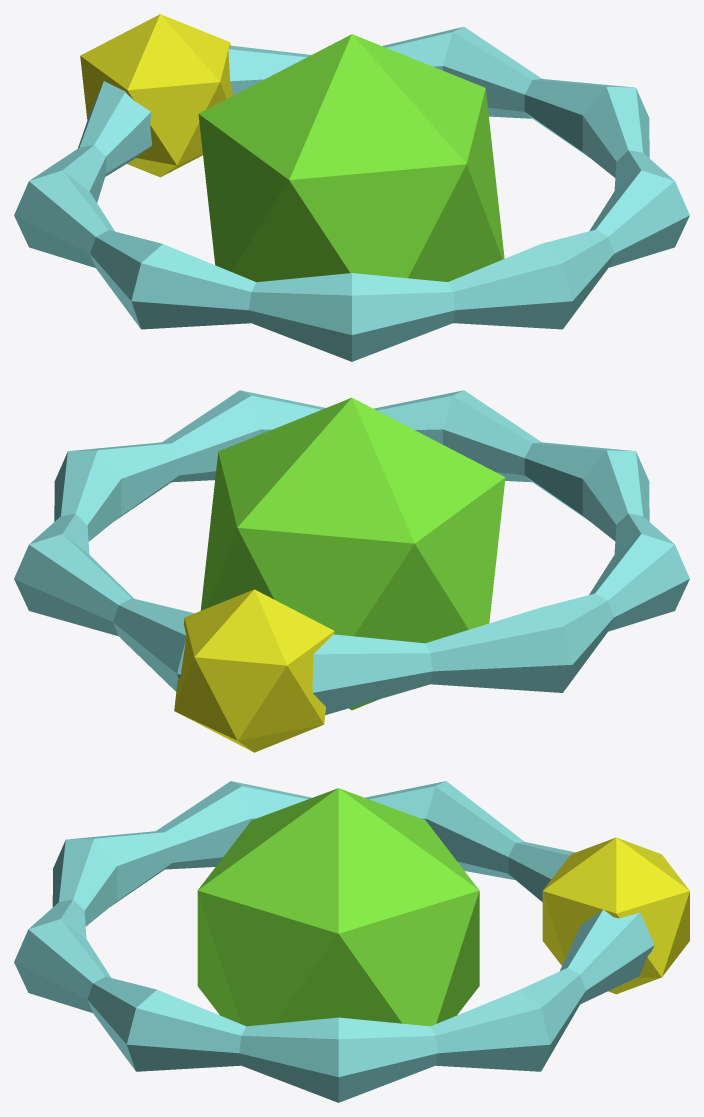
The model's file is hydrogenum.fbx.
The picture shows the model from 3 angles, top to bottom: view 1: azimuth 30°, elevation 25°; view 2: azimuth 150°, elevation 25°; view 3: azimuth 270°, elevation 25°; orthographic projection. The views are drawn at different scales.
Visible parts, largest first — view 1: Torus, Icosphere, Torus.001; view 2: Torus, Icosphere, Torus.001; view 3: Torus, Icosphere, Torus.001.
Boxes of the visible parts, box(x1,y1,x2,y2) form: Torus: box(14, 27, 689, 361); Icosphere: box(198, 34, 504, 282); Torus.001: box(80, 14, 233, 177); Torus: box(14, 390, 689, 714); Icosphere: box(200, 397, 505, 710); Torus.001: box(174, 589, 334, 752); Torus: box(14, 781, 654, 1102); Icosphere: box(197, 788, 479, 1026); Torus.001: box(542, 837, 689, 994).
Size of the model in its own units: 483 by 250 by 511.
